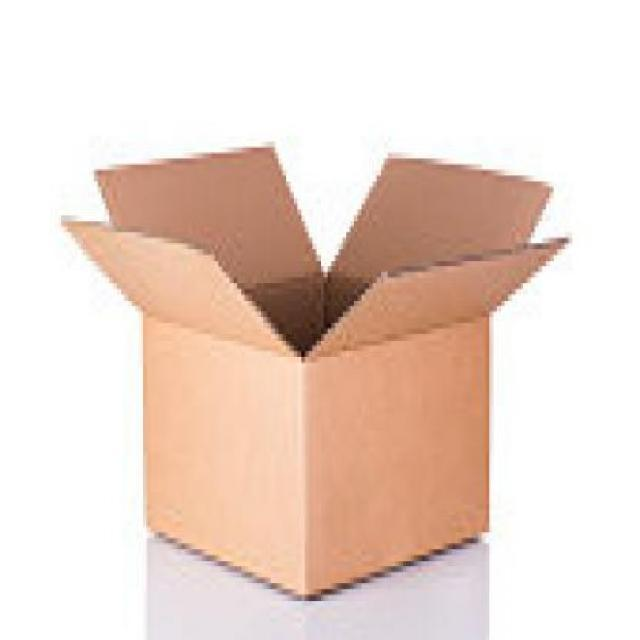box: (67, 150, 562, 595)
